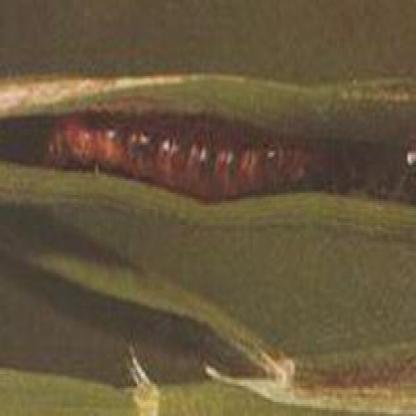leaf-folder: (60, 82, 354, 214)
